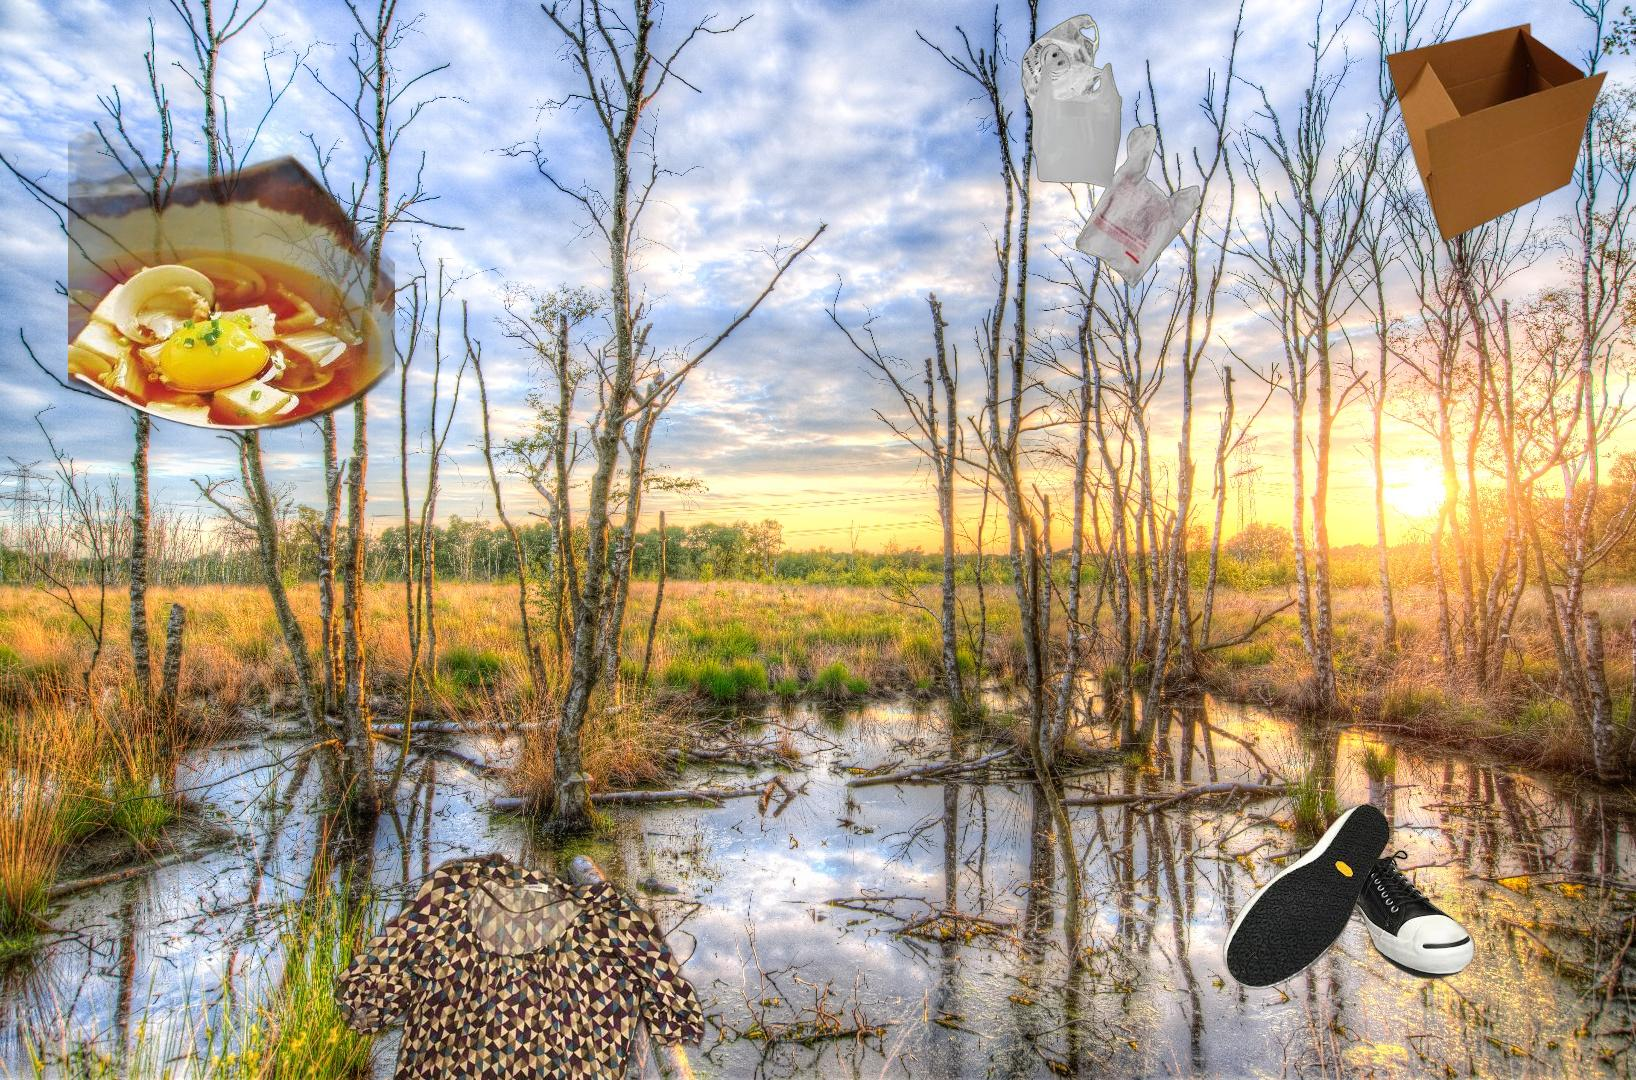biological: (67, 64, 395, 472)
clothes: (329, 847, 708, 1080)
plastic-bag: (1020, 12, 1204, 293)
shoes: (1223, 802, 1482, 992)
trashbox-cardboard: (1383, 20, 1611, 245)
